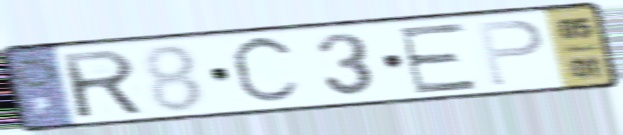3: (313, 31, 377, 99)
8: (139, 40, 209, 114)
C: (226, 31, 306, 110)
E: (394, 19, 483, 96)
P: (473, 17, 548, 89)
R: (56, 46, 149, 121)
